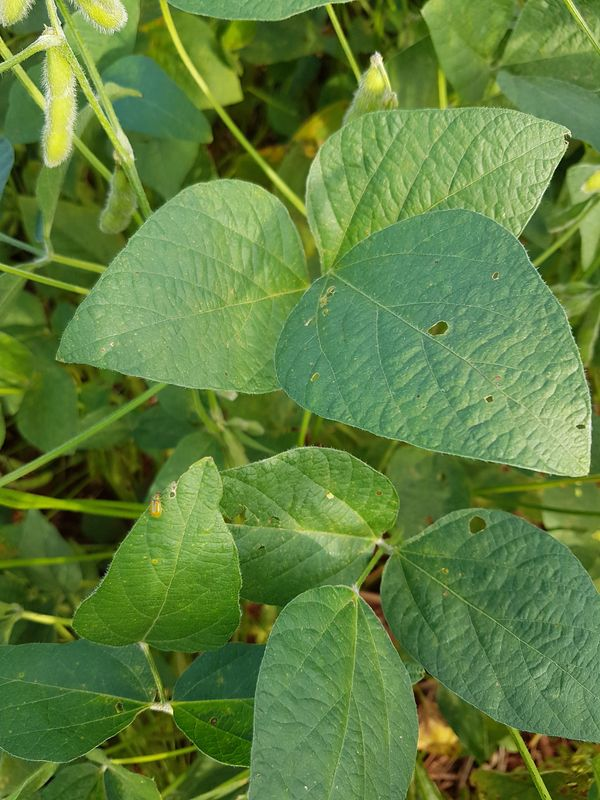Diabrotica_speciosa: (141, 487, 174, 525)
